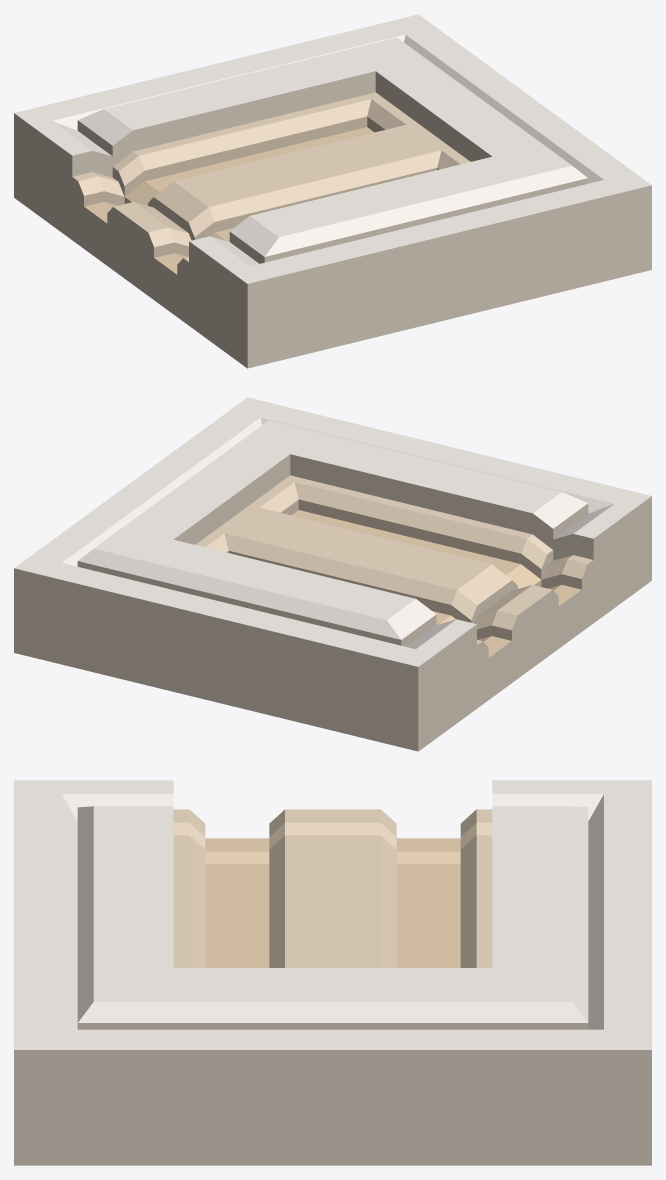
Rendered from Puzzle_Track_Button_End.glb.
The picture shows the model from 3 angles, top to bottom: view 1: azimuth 30°, elevation 25°; view 2: azimuth 150°, elevation 25°; view 3: azimuth 270°, elevation 25°; orthographic projection. The views are drawn at different scales.
Parts seen in each view (by area): view 1: Puzzle_Track_Button_End; view 2: Puzzle_Track_Button_End; view 3: Puzzle_Track_Button_End.
Part boxes in pixels (bbox=[...]): Puzzle_Track_Button_End: bbox=[14, 14, 651, 368]; Puzzle_Track_Button_End: bbox=[14, 397, 651, 751]; Puzzle_Track_Button_End: bbox=[14, 780, 651, 1165].
Bounding box in the file's own units: 1 × 0.225 × 1.
